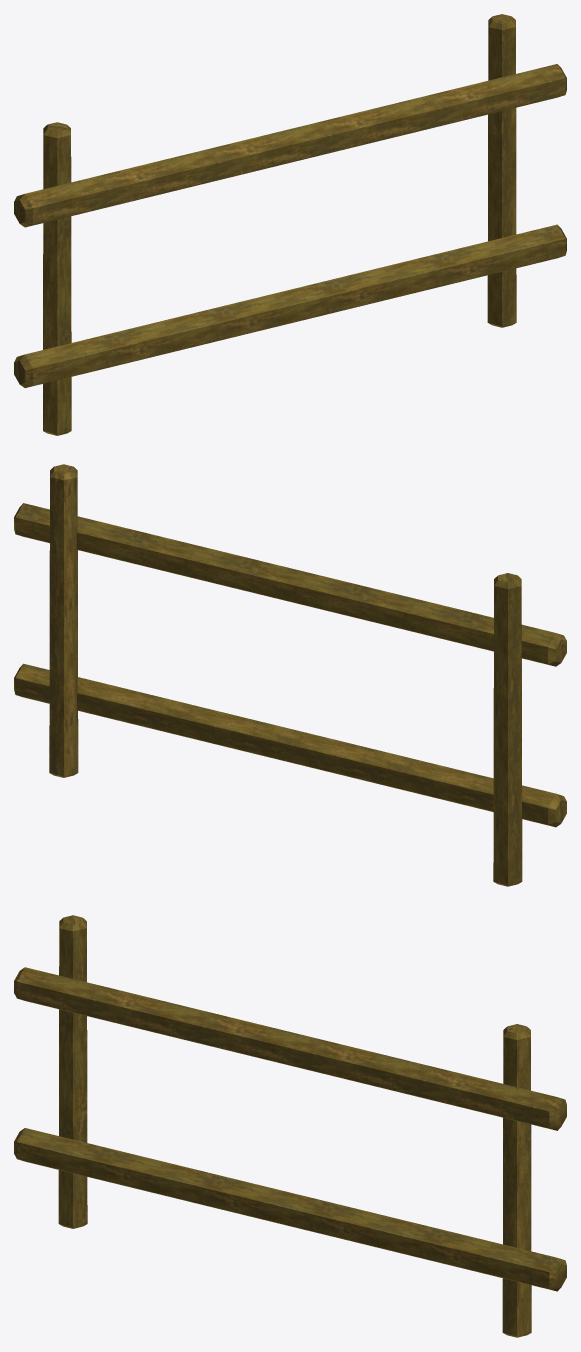
Rendered from Fence.fbx.
The picture shows the model from 3 angles, top to bottom: view 1: azimuth 30°, elevation 25°; view 2: azimuth 150°, elevation 25°; view 3: azimuth 330°, elevation 25°; orthographic projection.
Visible parts, largest first — view 1: Fence; view 2: Fence; view 3: Fence.
Boxes of the visible parts, x1,y1,x2,y2 form: Fence: (14,14,566,435); Fence: (14,464,566,886); Fence: (14,915,566,1337).
Bounding box in the file's own units: 232 × 125 × 17.25.
